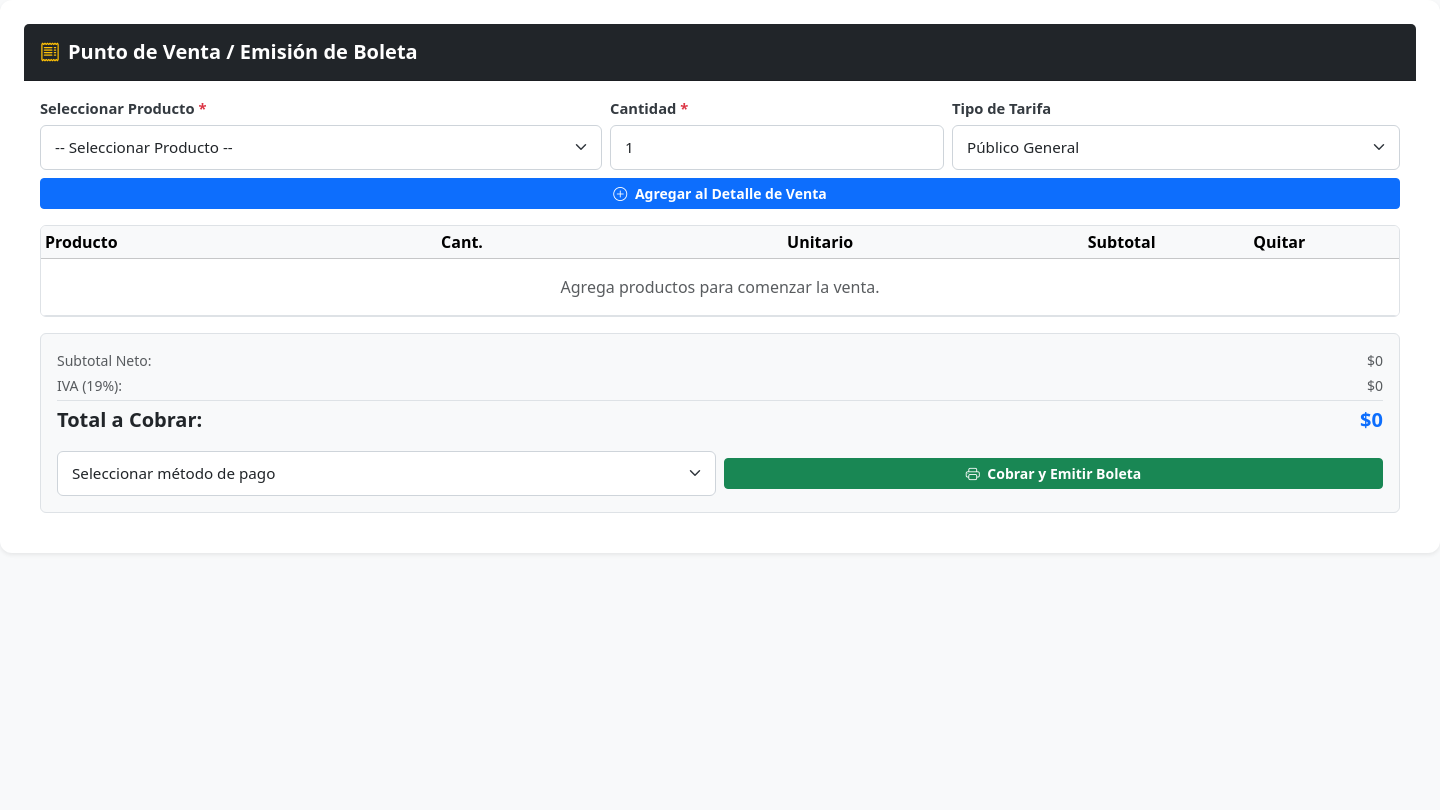
Test: PuntoVenta › valida la selección de producto y la cantidad
The image size is (1440, 810).
Step 1. Click the button "Agregar al Detalle de Venta" → (720, 193), box [40,178,1400,209]
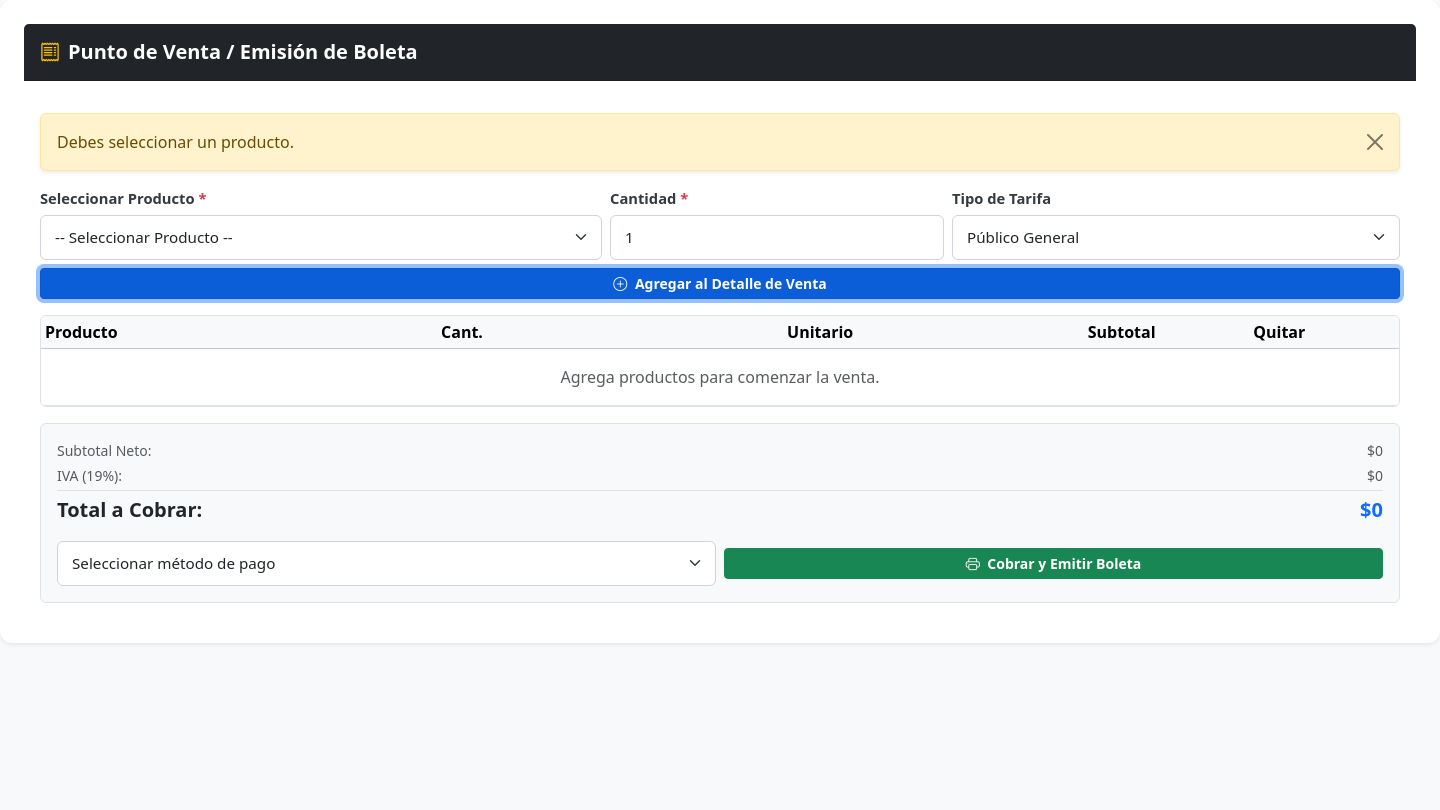
Now the text "Debes seleccionar un producto." is shown, box [57,131,294,153]
Step 2. Select "Martillo Profesional - Stock: 15" in the dropdown labelled "Seleccionar Producto *" → (321, 238), box [40,215,602,260]
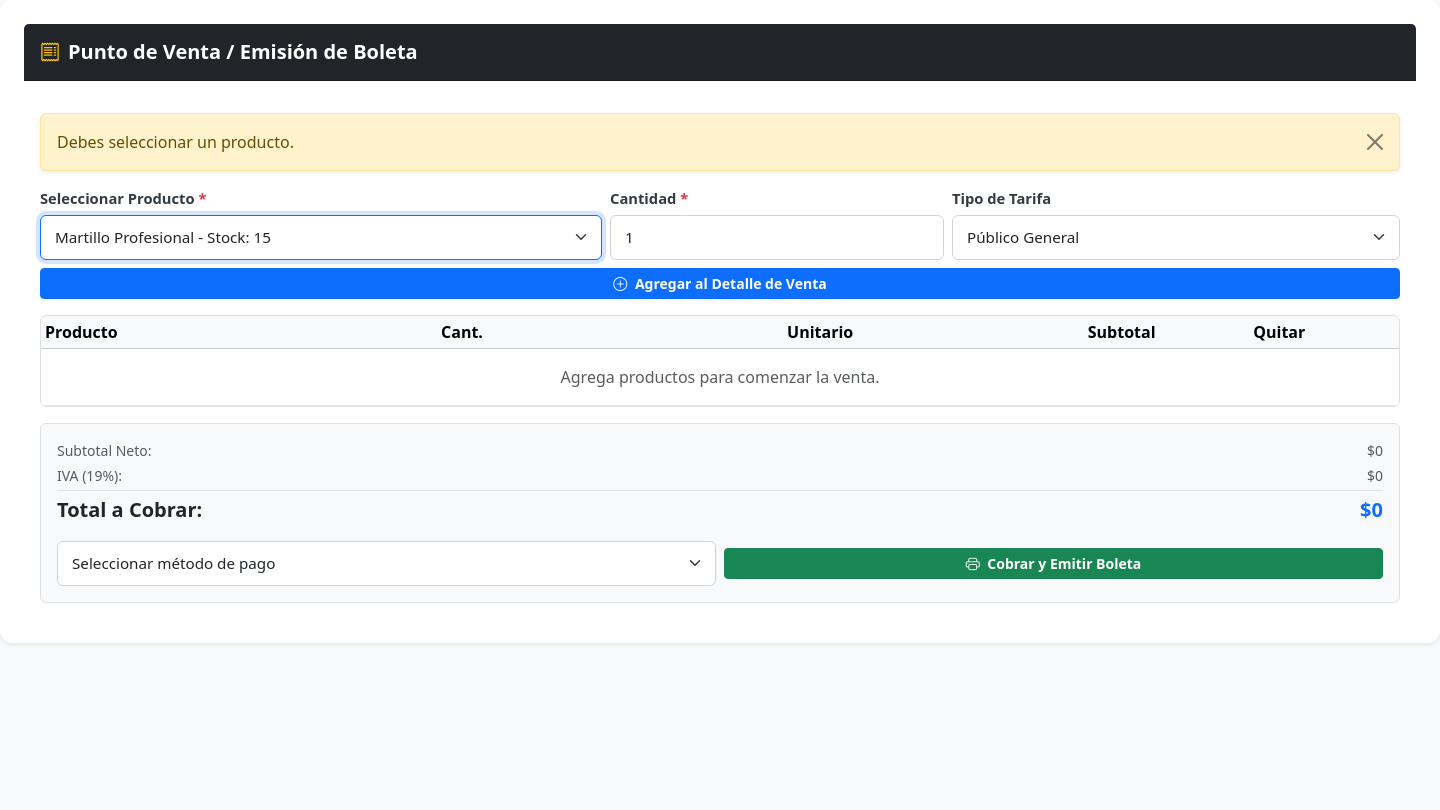
Step 3. Replace the text in the number field labelled "Cantidad *" with "0" → (777, 238), box [610,215,944,260]
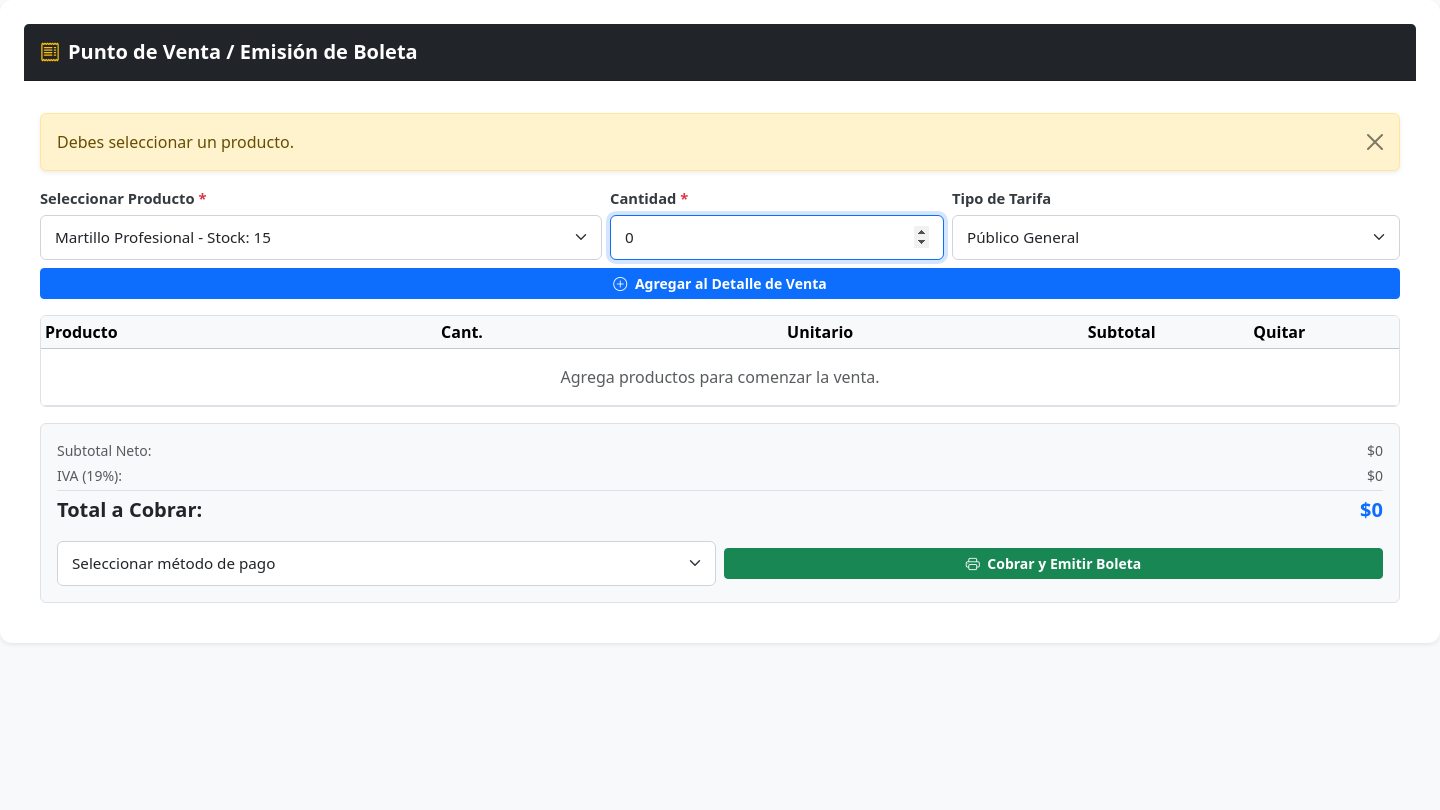
Step 4. Click the button "Agregar al Detalle de Venta" → (720, 283), box [40,268,1400,299]
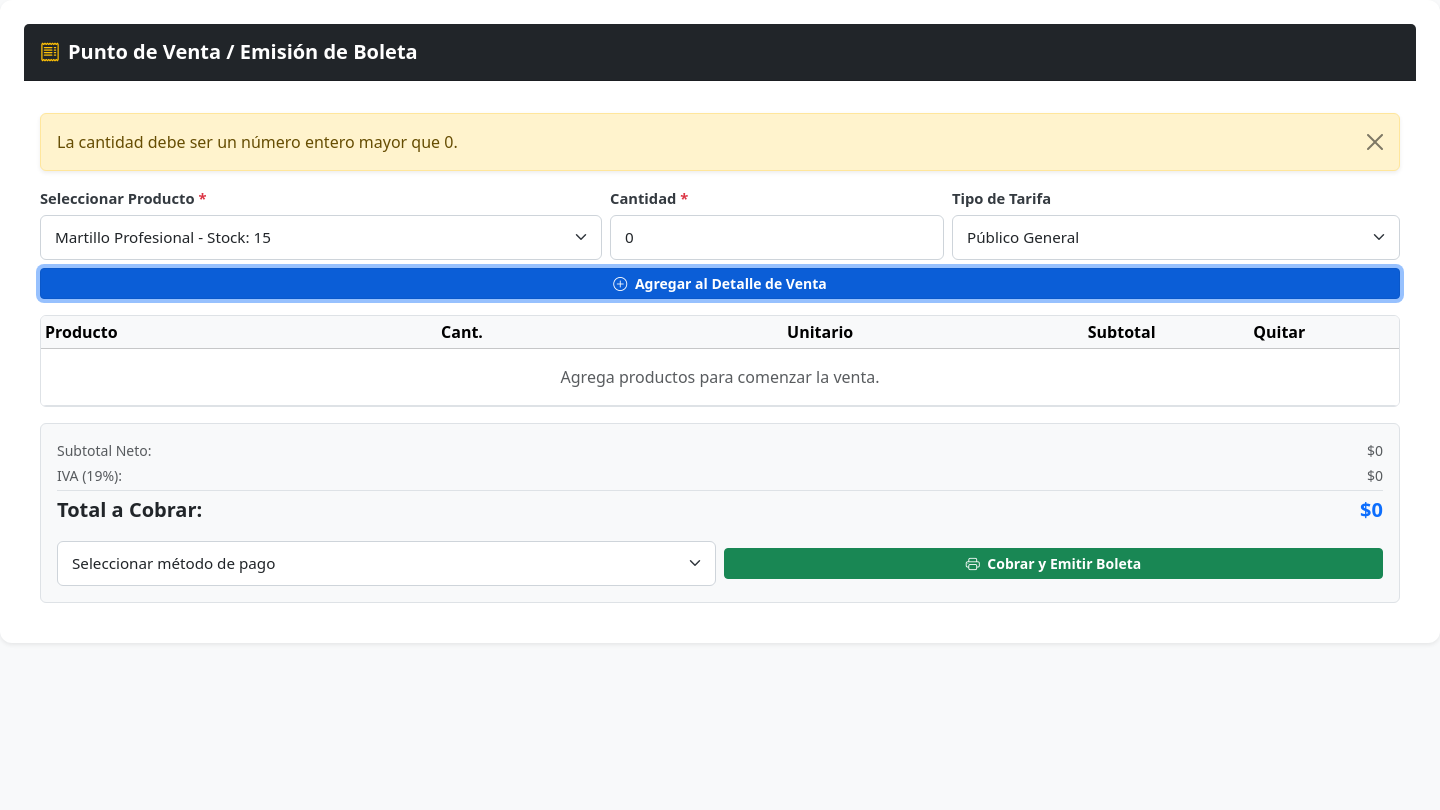
Now the text "La cantidad debe ser un número entero mayor que 0." is shown, box [57,131,458,153]
